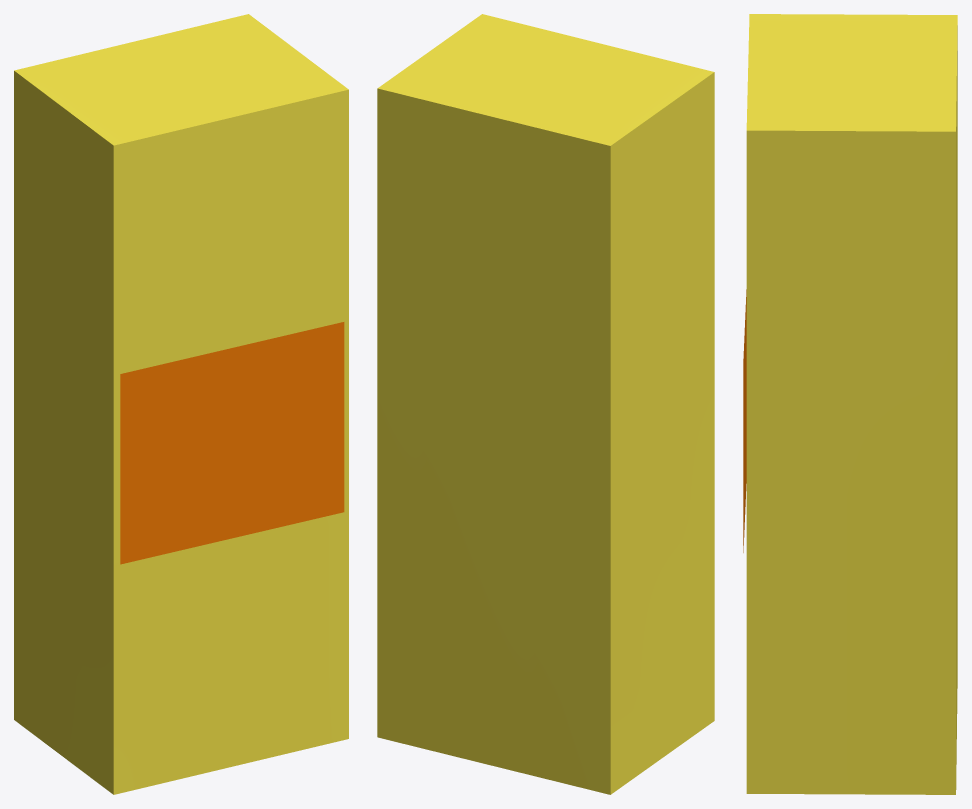
Rendered from shop_023.glb.
The picture shows the model from 3 angles, left to right: view 1: azimuth 30°, elevation 25°; view 2: azimuth 150°, elevation 25°; view 3: azimuth 270°, elevation 25°; orthographic projection. The views are drawn at different scales.
Parts seen in each view (by area): view 1: shop_023; view 2: shop_023; view 3: shop_023.
Part boxes in pixels (x1=…): shop_023: x1=14, y1=14, x2=348, y2=794; shop_023: x1=377, y1=14, x2=714, y2=794; shop_023: x1=743, y1=14, x2=957, y2=794.
Bounding box in the file's own units: 0.1029 × 0.2705 × 0.0792.
1 material, 1 textured.
